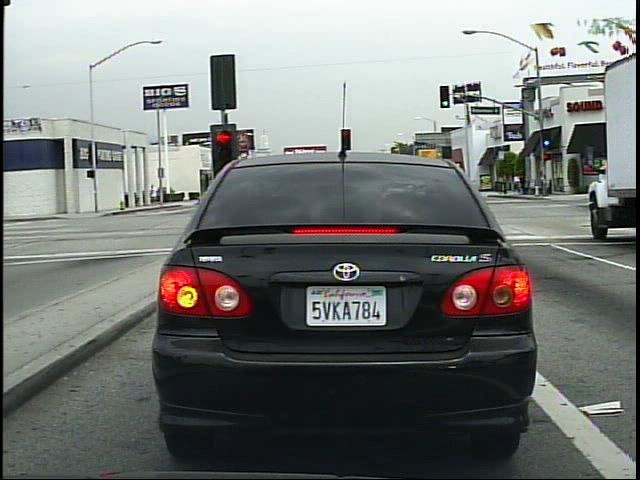person: (517, 171, 529, 197), (148, 181, 158, 210)
